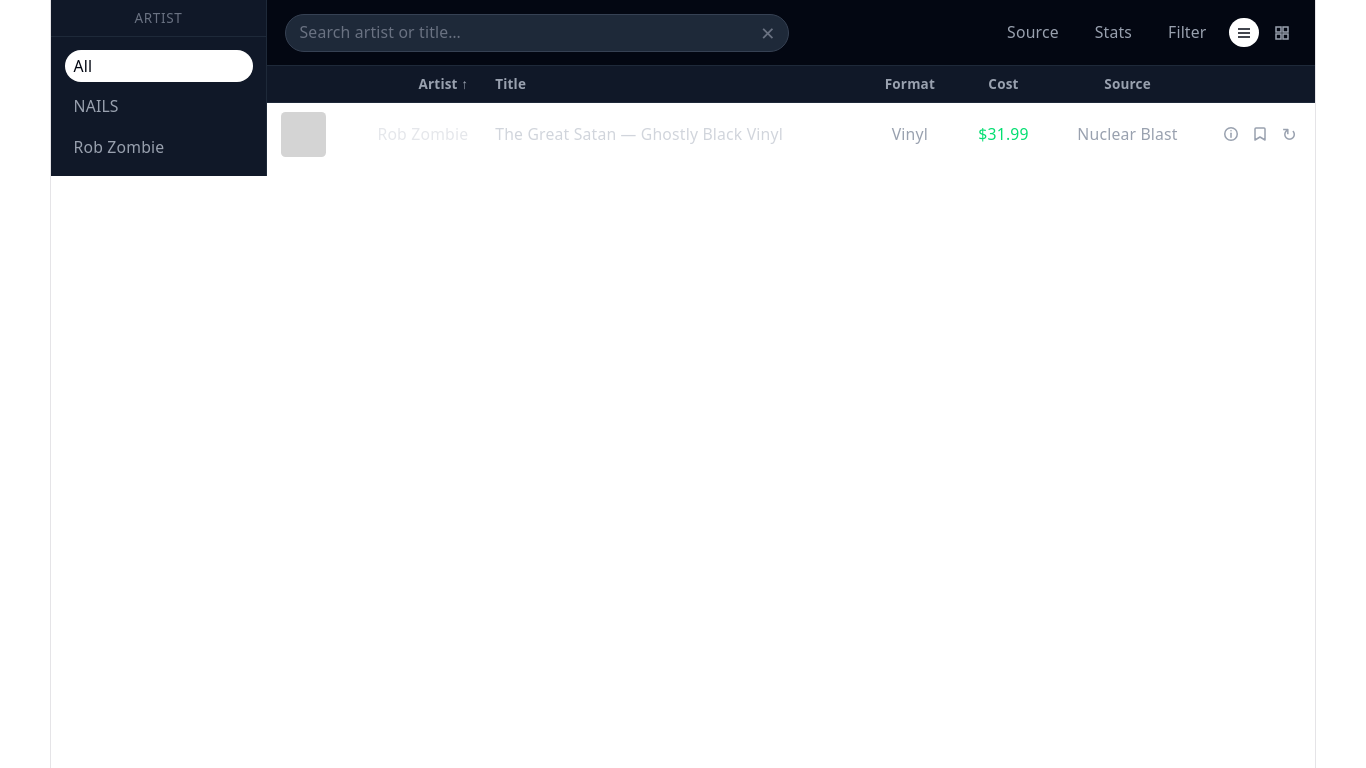
it: StockBrowser › opens the reason in a popover from the info button
Expected: the text "The Great Satan — Ghostly Black Vinyl" is shown, x1=482 y1=102 x2=863 y2=166
Click the button titled "Recommendation details" at (1231, 134), box x1=1218 y1=122 x2=1243 y2=147
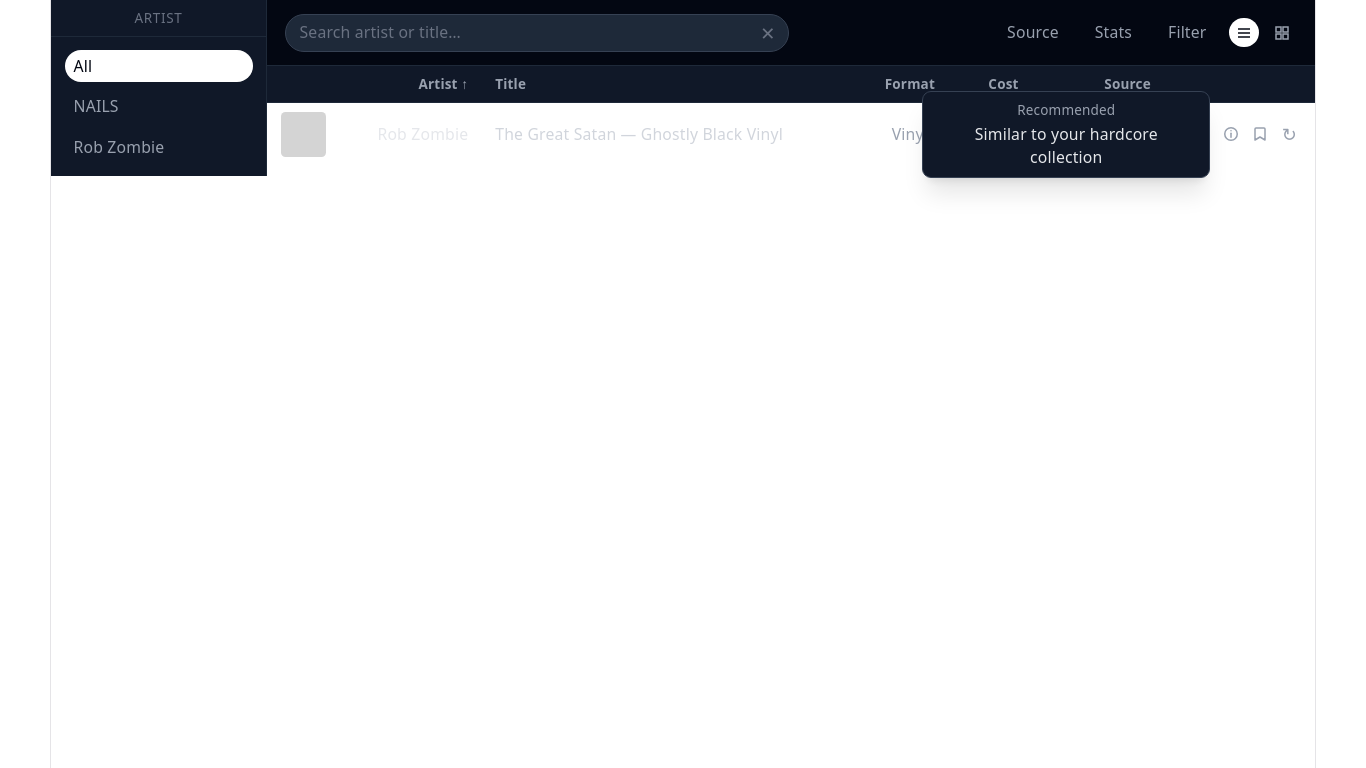
Expected: the element showing "Recommended Similar to your hardcore collection" is shown, x1=922 y1=91 x2=1210 y2=178
